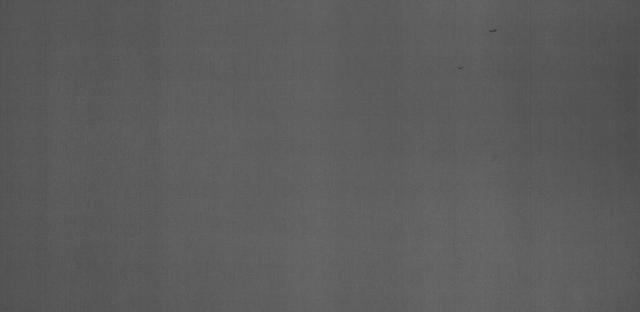inclusion: (451, 58, 473, 78), (481, 23, 500, 36)
